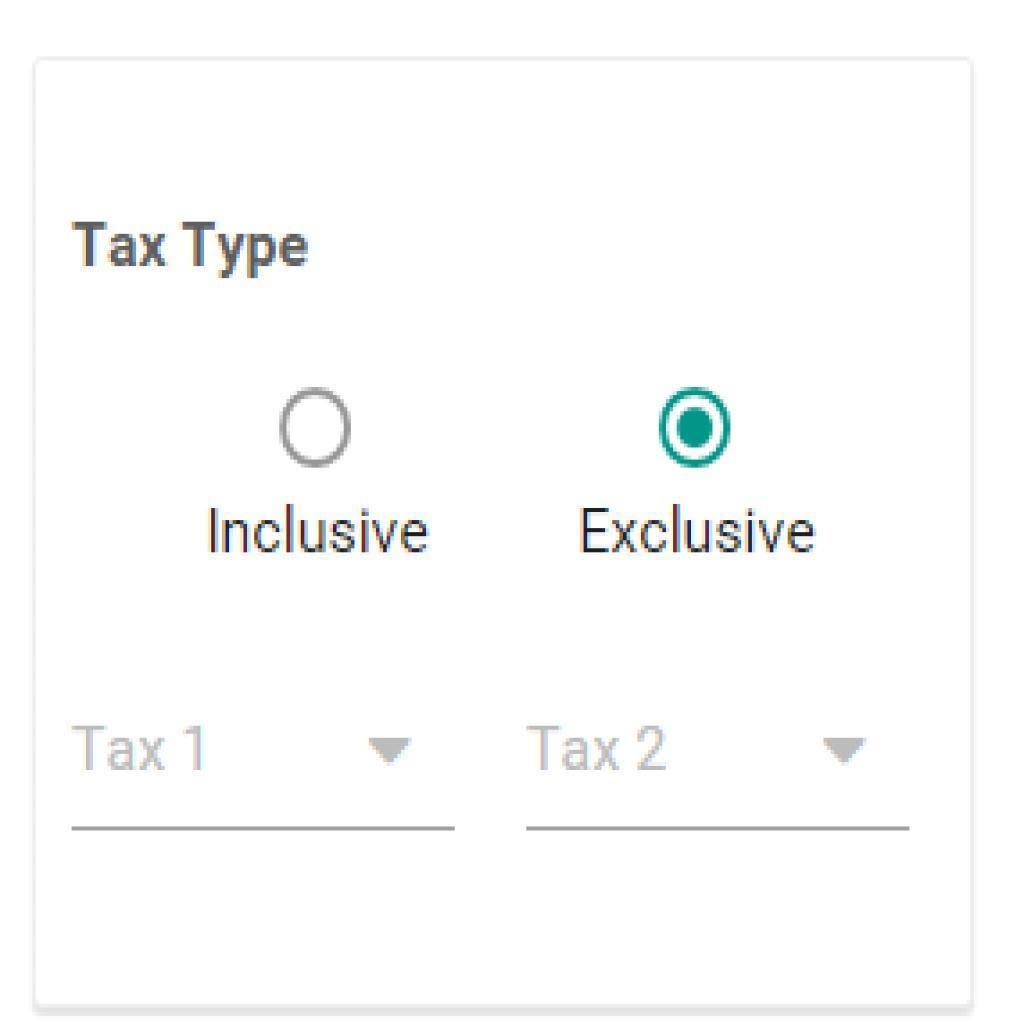radio: (658, 387, 733, 474), (280, 389, 353, 472)
